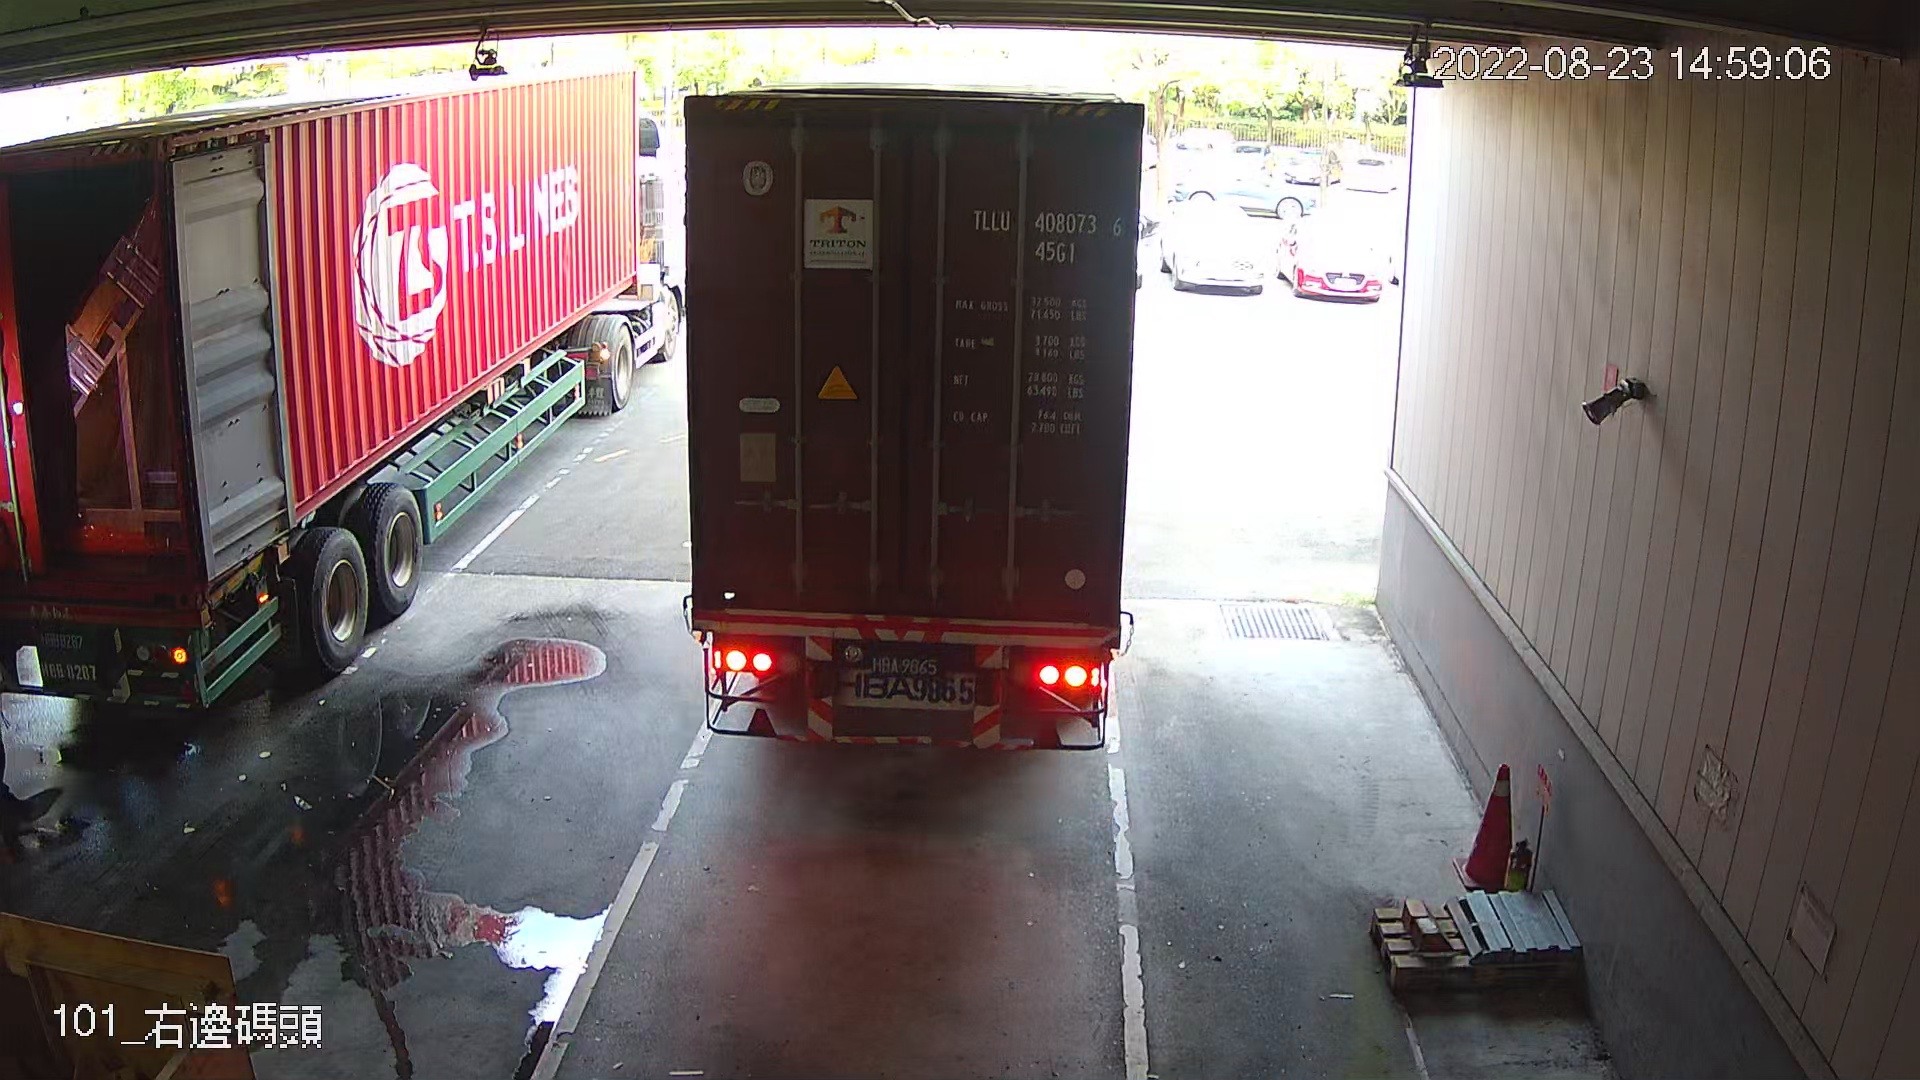container: (964, 199, 1131, 272)
